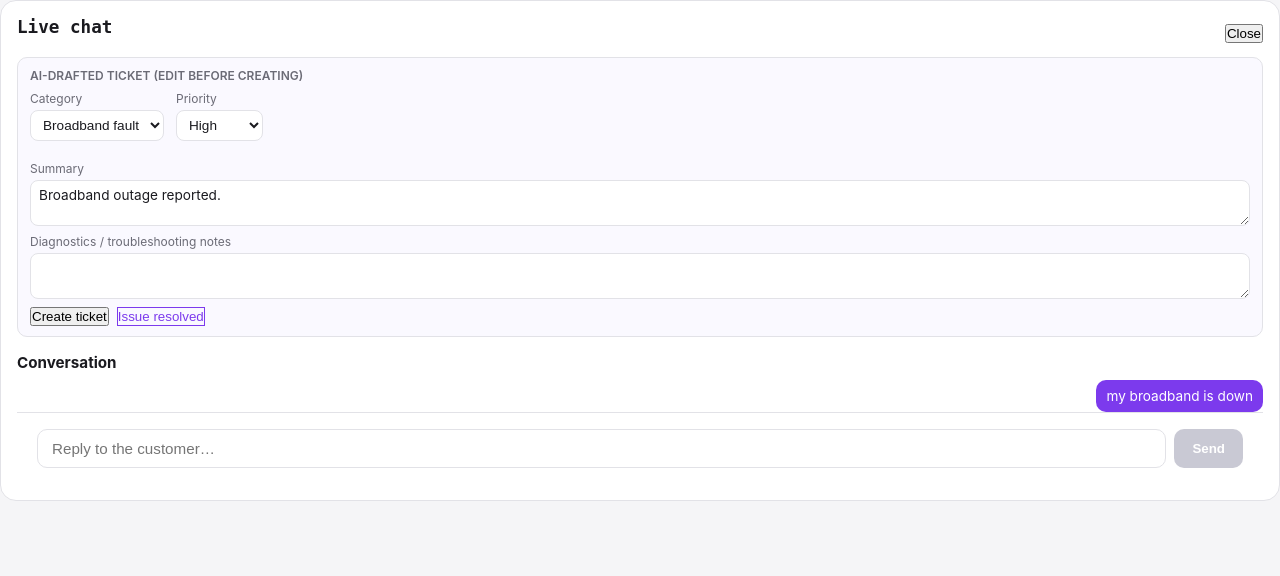
StaffChatWindow › sends a staff reply and appends it to the transcript
The image size is (1280, 576).
In the field with placeholder "Reply to the customer…": [602, 448] box x1=37 y1=429 x2=1166 y2=468, type "Hi, I'm here to help"
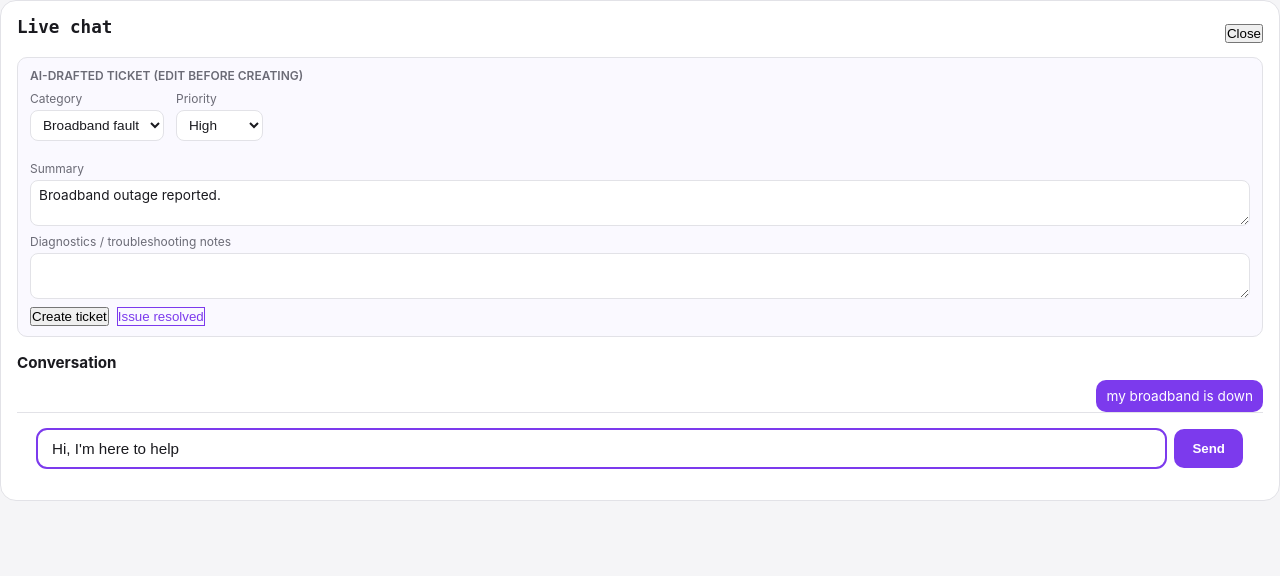
Click the button "Send": [1209, 448] box x1=1174 y1=429 x2=1243 y2=468
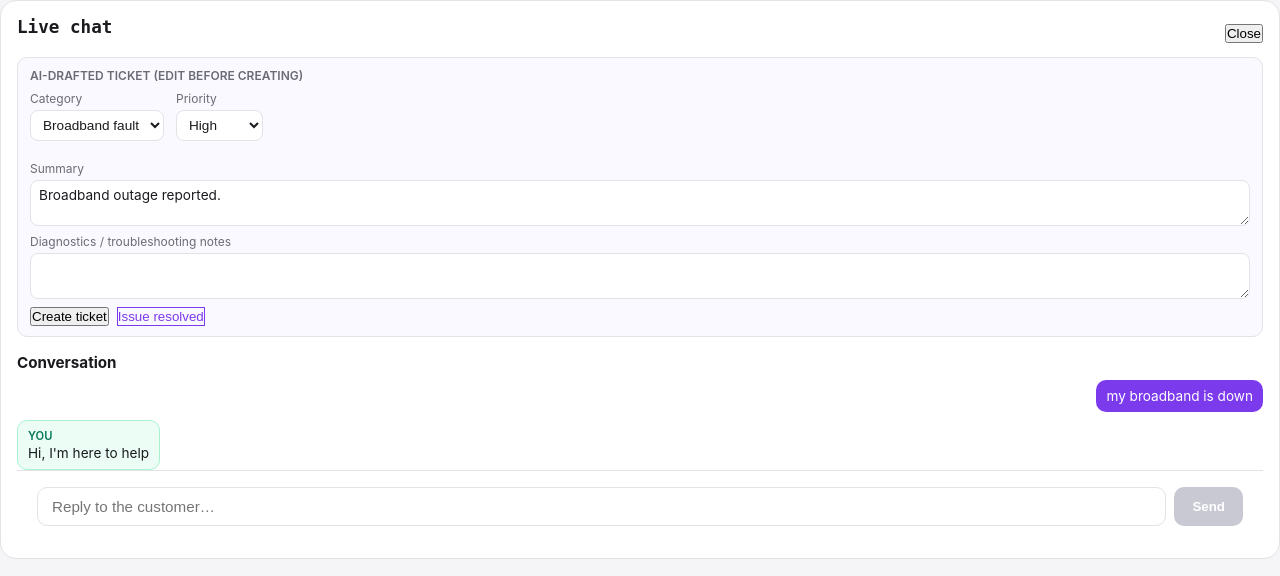
expect the text "Hi, I'm here to help" is shown: met, box x1=28 y1=445 x2=149 y2=461
